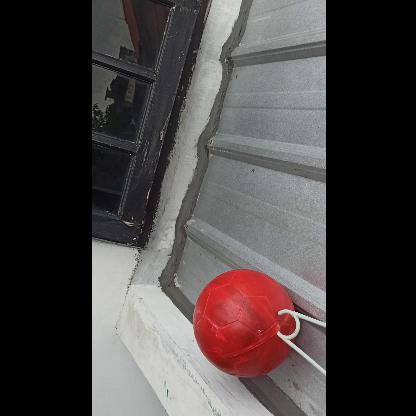red_ball: (190, 271, 296, 377)
